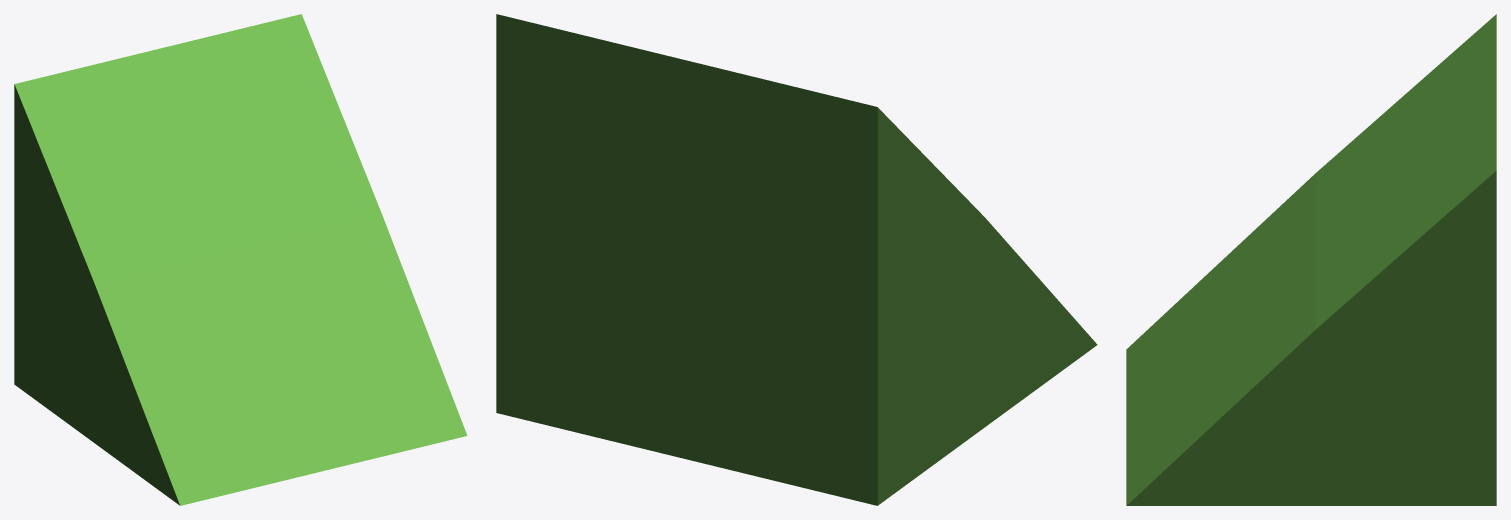
File: IsometricTile_Light_Hill.fbx
3 renders of one model, left to right at view 1: azimuth 30°, elevation 25°; view 2: azimuth 150°, elevation 25°; view 3: azimuth 270°, elevation 25°, orthographic. The views are drawn at different scales.
Visible parts, largest first — view 1: Cube.017; view 2: Cube.017; view 3: Cube.017.
Boxes of the visible parts, x1,y1,x2,y2 form: Cube.017: [14, 14, 467, 505]; Cube.017: [496, 14, 1097, 505]; Cube.017: [1126, 14, 1496, 505].
Bounding box in the file's own units: 1 × 1 × 1.
